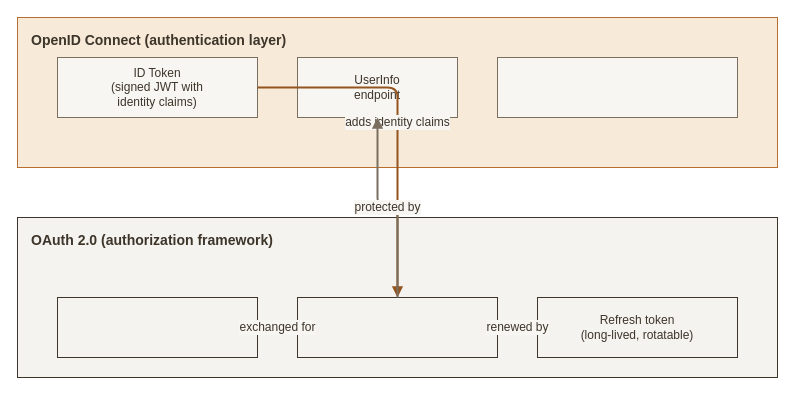
The diagram is 795 pixels wide and 395 high, and some of its shapes have lost their labels. The shapes that lost their labels are listed below. From the top down, each one's centre as x and y in pixels, then its label:
point 617,87: Discovery + dynamic registration
point 157,327: Authorization code + PKCE
point 397,327: Access token (scoped, short-lived)
